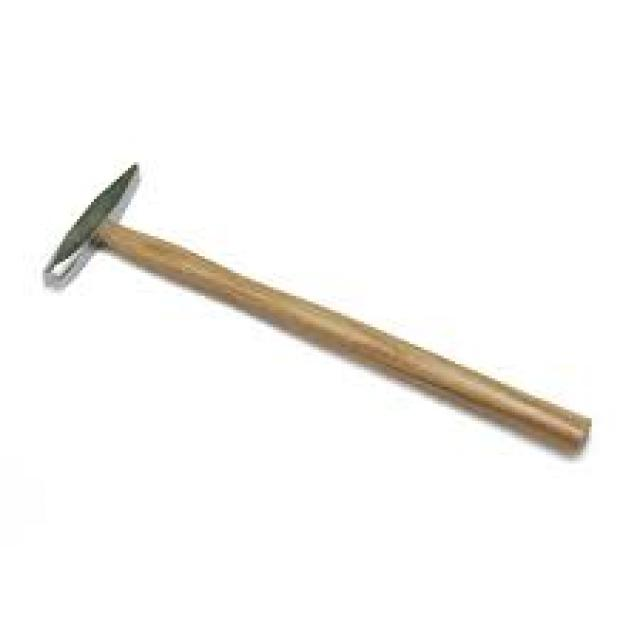Hammer: (36, 156, 602, 472)
